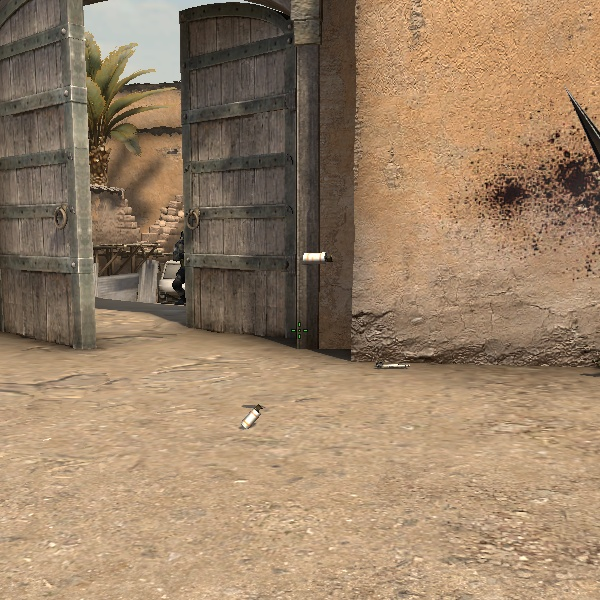ct_body: (157, 240, 189, 306)
